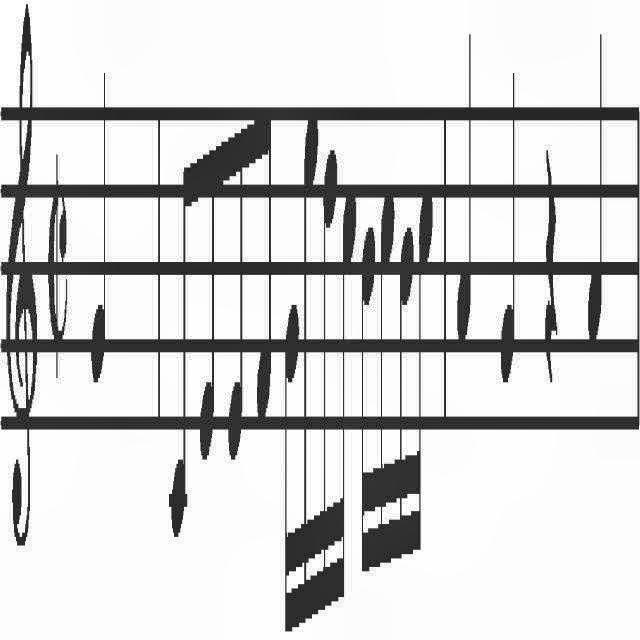Bass-clef: (6, 0, 38, 552)
Eighth-note: (168, 148, 192, 536), (198, 124, 216, 468), (255, 100, 273, 437), (228, 120, 244, 468)
Quarter-note: (90, 61, 108, 392), (499, 58, 516, 390), (587, 24, 603, 348), (456, 28, 472, 348)
Quarter-rest: (545, 143, 559, 384)
Sixteenth-note: (302, 114, 318, 640), (322, 135, 338, 623), (378, 189, 396, 606), (340, 190, 358, 606), (397, 216, 415, 604), (415, 186, 433, 570), (360, 220, 376, 608), (284, 292, 300, 640)
